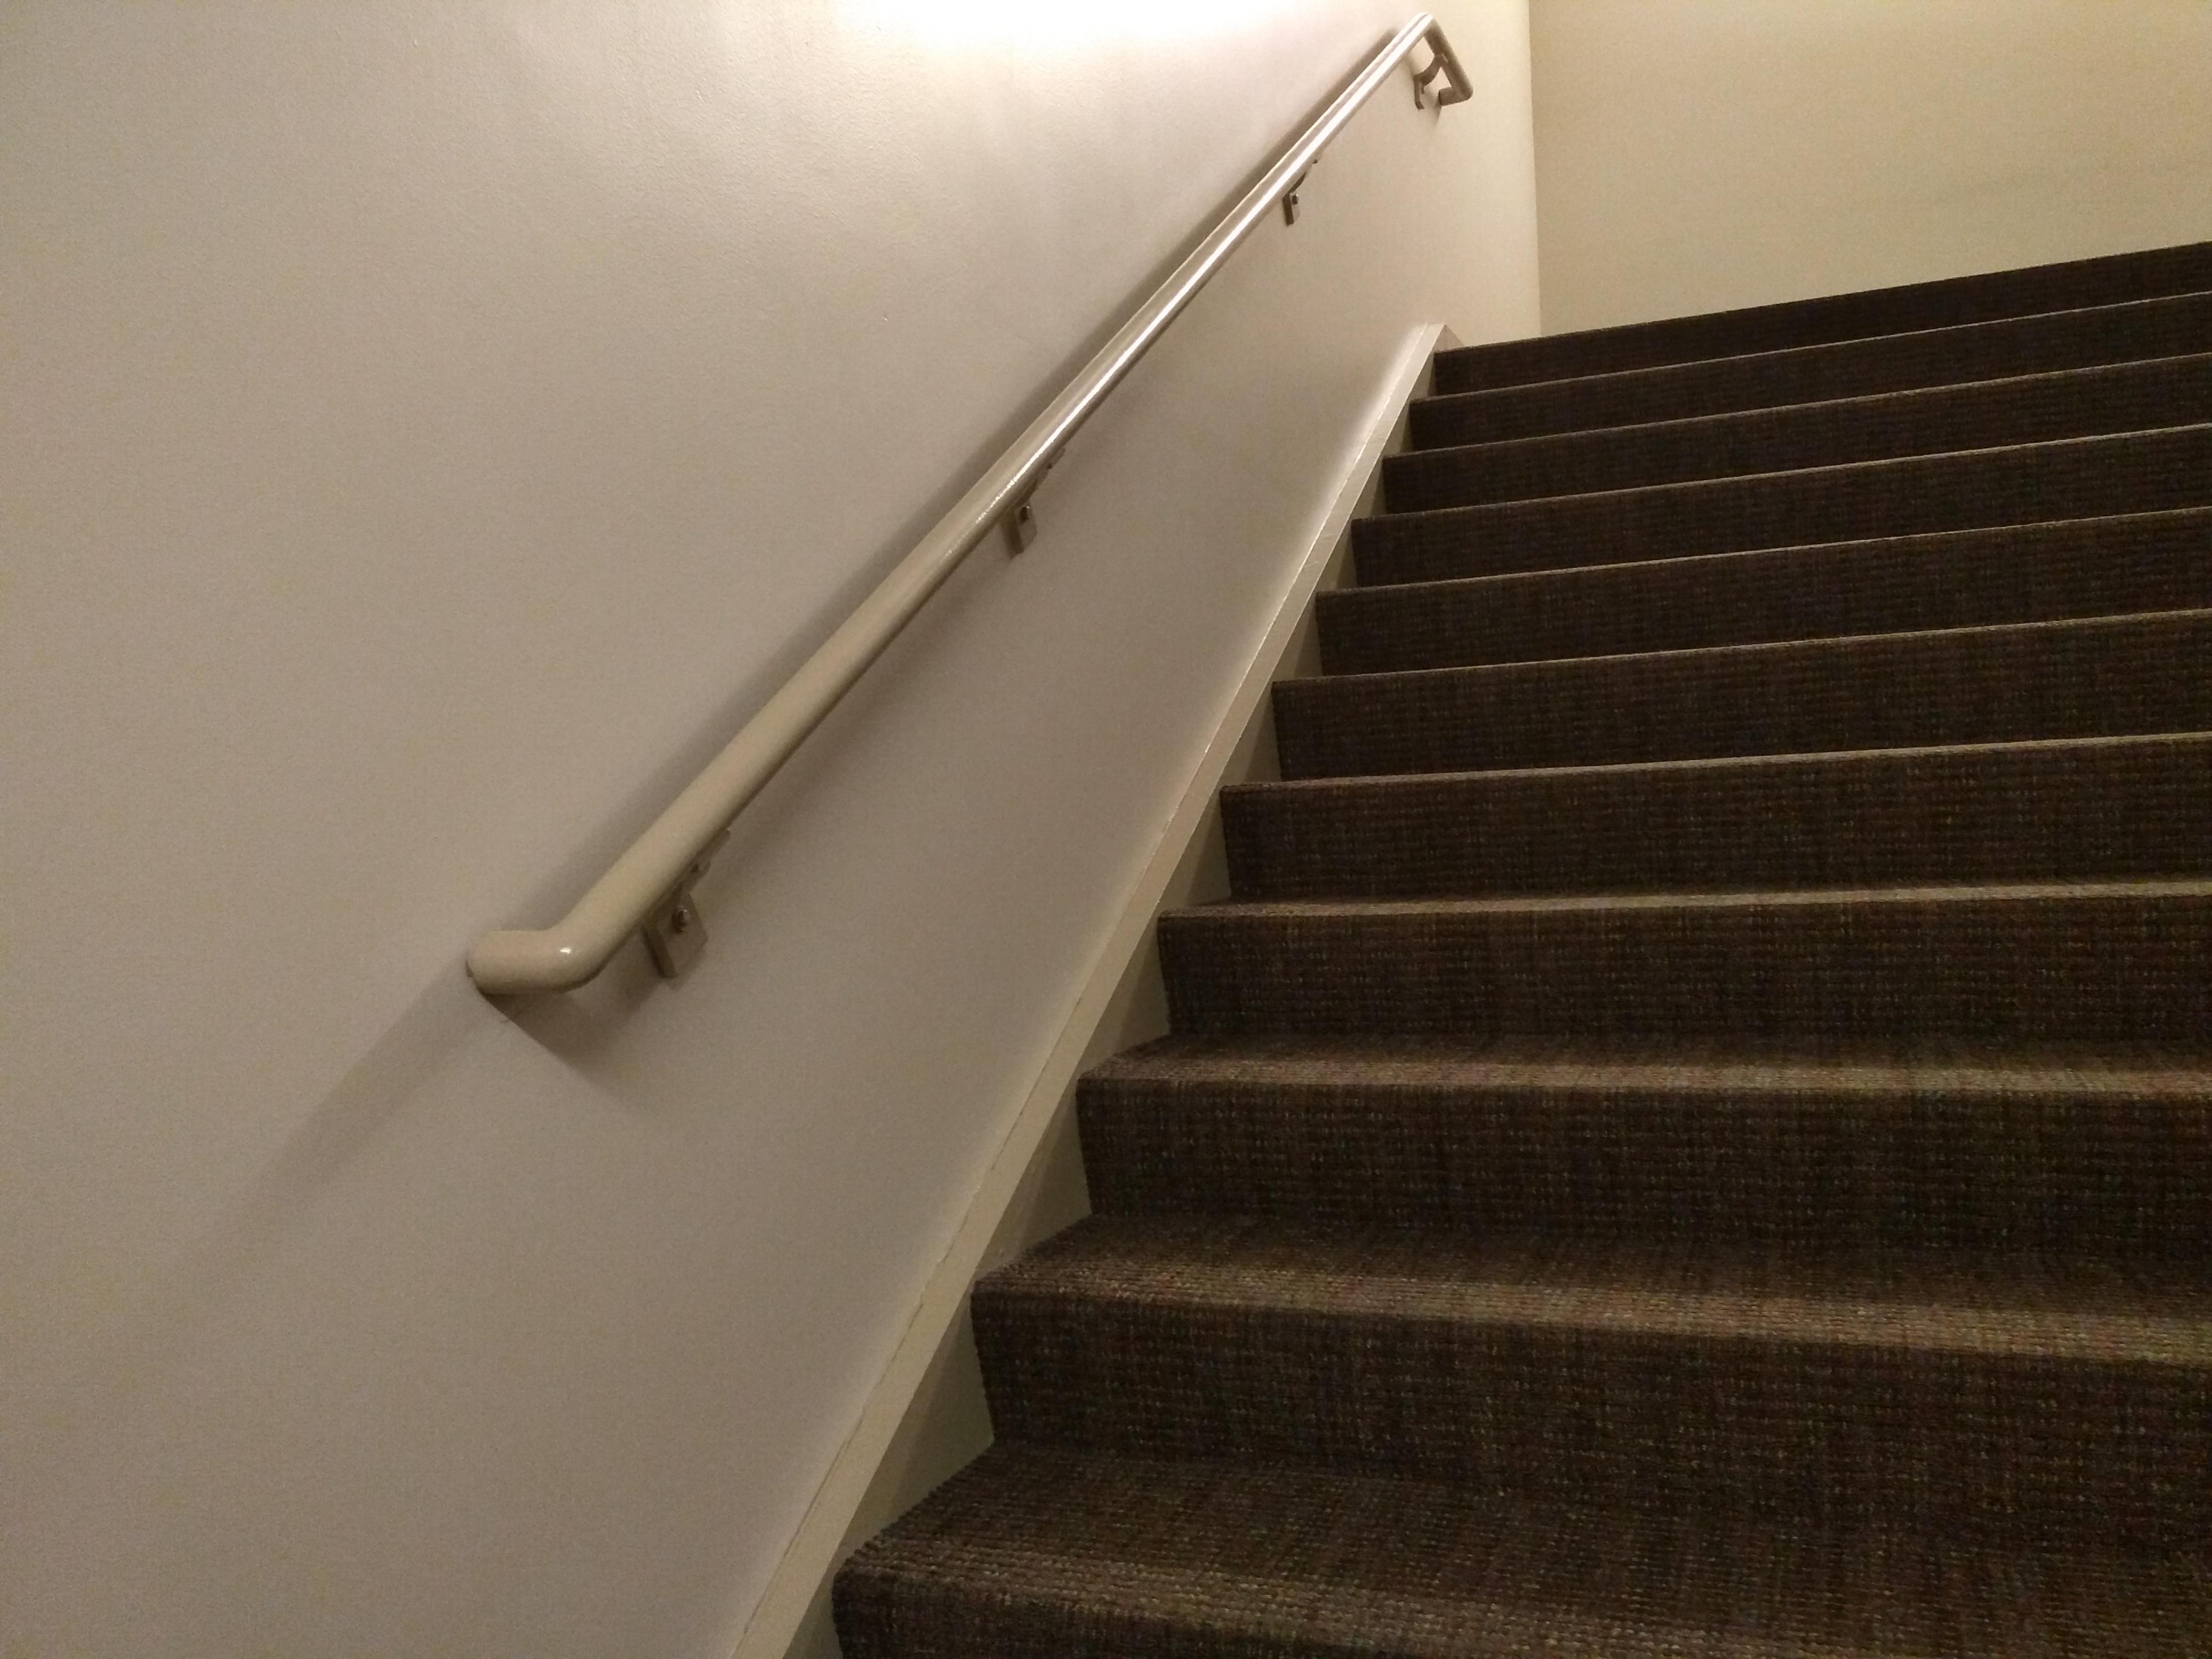stairs_up: (836, 221, 2212, 1656)
